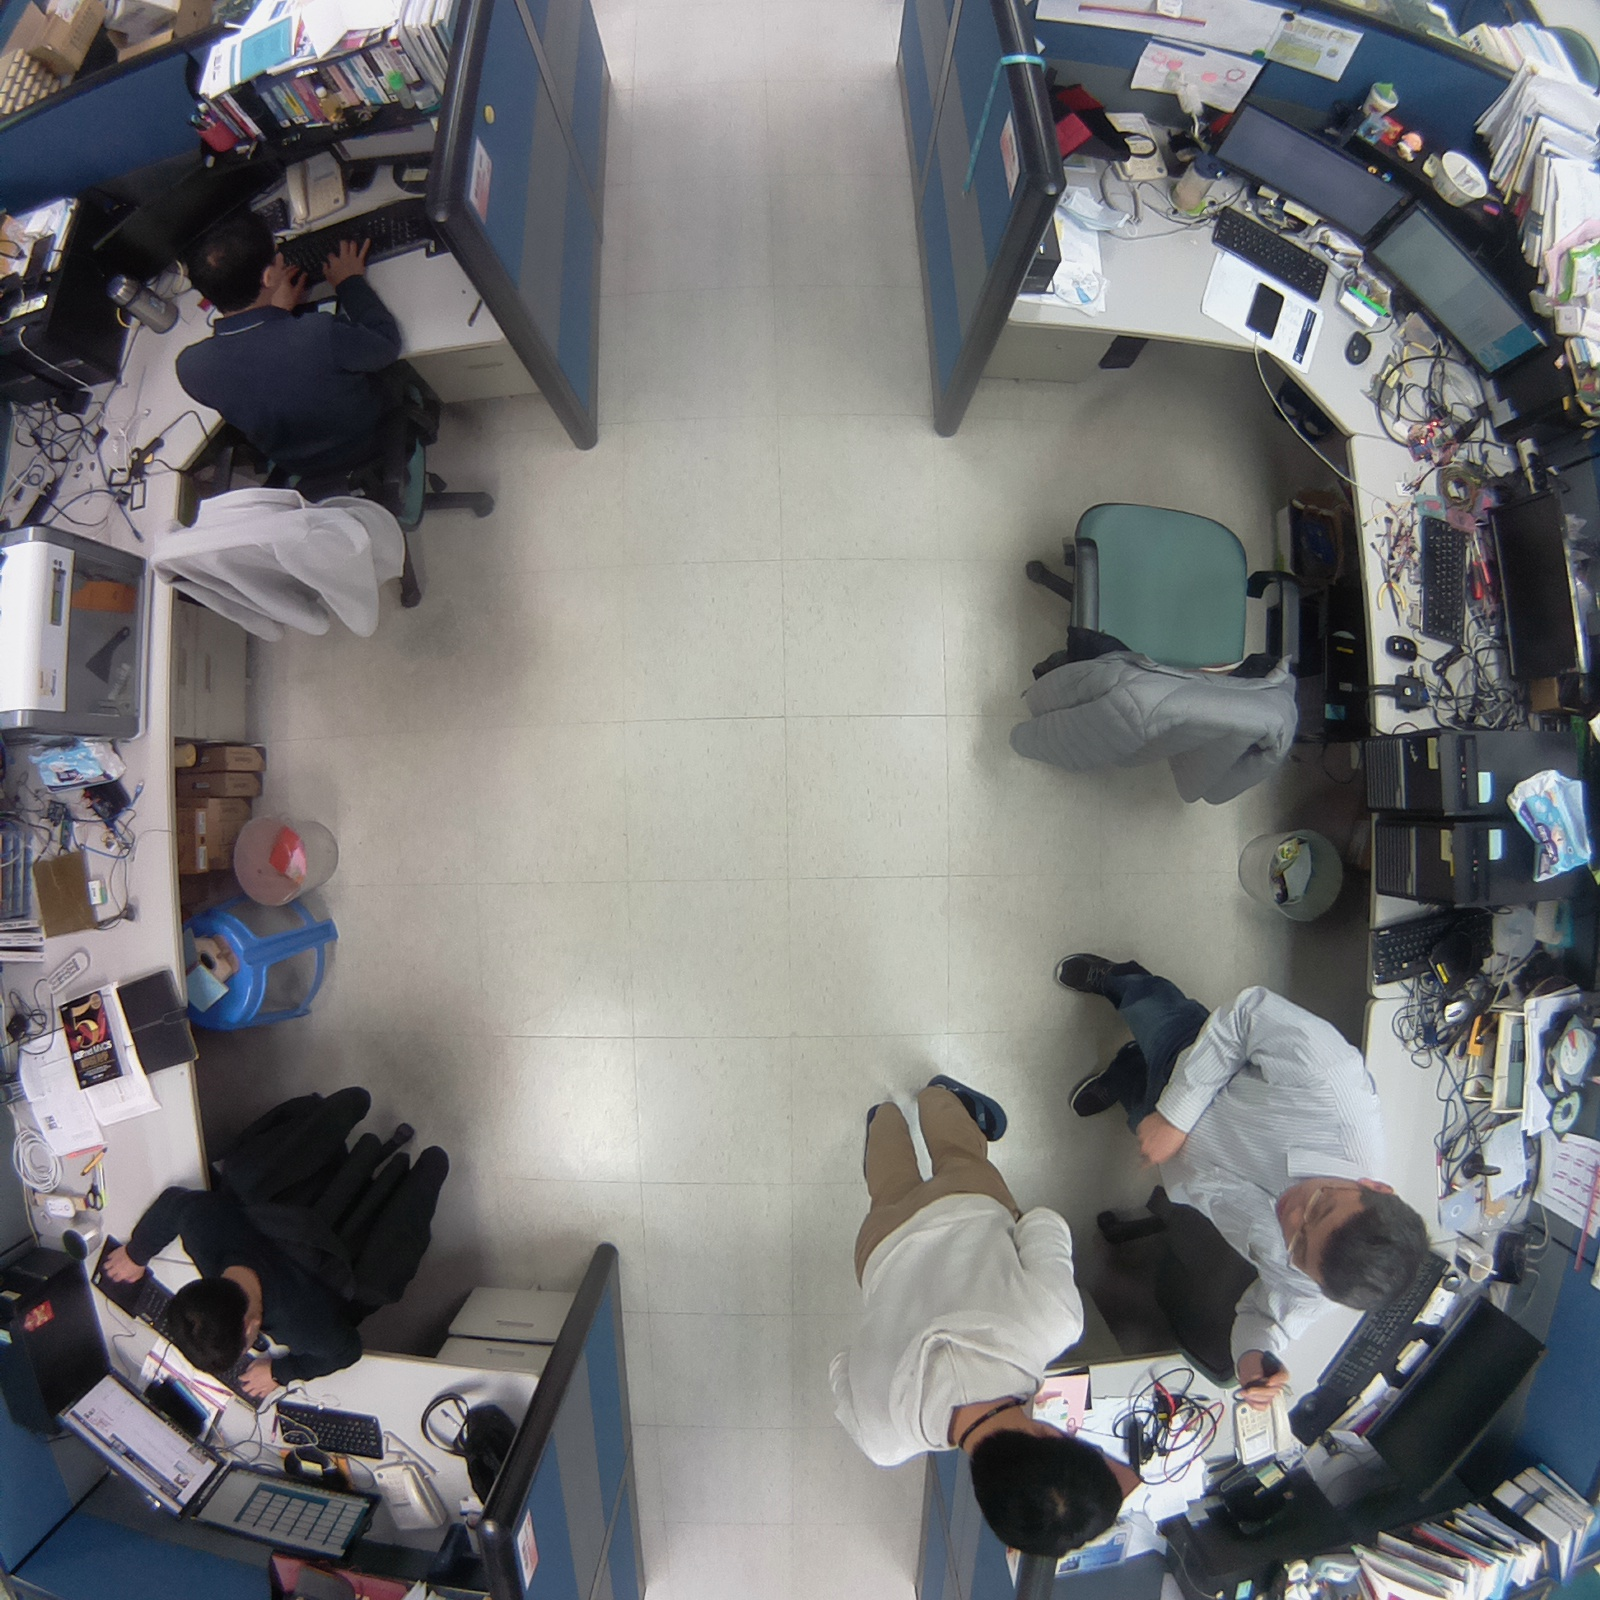chair: (1012, 489, 1322, 813)
sitting: (164, 207, 457, 495), (84, 1160, 377, 1404)
standing: (1046, 942, 1442, 1418), (821, 1062, 1133, 1566)
